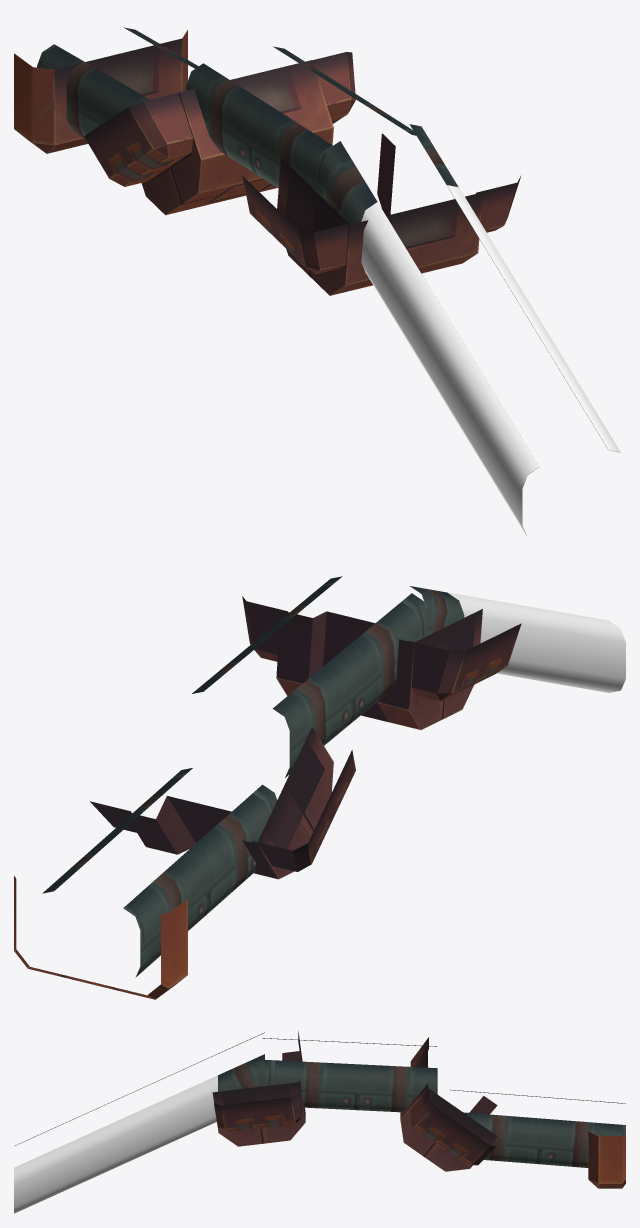
File: strut.glb
3 renders of one model, top to bottom at view 1: azimuth 30°, elevation 25°; view 2: azimuth 150°, elevation 25°; view 3: azimuth 270°, elevation 25°, orthographic. The views are drawn at different scales.
Visible parts, largest first — view 1: arcade.strut-Mesh[0], arcade.strut-Mesh[2], arcade.strut-Mesh[1]; view 2: arcade.strut-Mesh[0], arcade.strut-Mesh[2], arcade.strut-Mesh[1]; view 3: arcade.strut-Mesh[2], arcade.strut-Mesh[0], arcade.strut-Mesh[1].
Part boxes in pixels (<box>): arcade.strut-Mesh[0]: <box>14,30,521,295</box>; arcade.strut-Mesh[2]: <box>37,27,620,535</box>; arcade.strut-Mesh[1]: <box>361,185,620,535</box>; arcade.strut-Mesh[0]: <box>14,596,521,999</box>; arcade.strut-Mesh[2]: <box>42,576,464,977</box>; arcade.strut-Mesh[1]: <box>447,592,625,692</box>; arcade.strut-Mesh[2]: <box>16,1032,625,1167</box>; arcade.strut-Mesh[0]: <box>212,1031,625,1188</box>; arcade.strut-Mesh[1]: <box>14,1053,217,1213</box>.
Size of the model in its own units: 2.6 by 2.8 by 9.75.
Materials: 3 (2 with a texture image).
